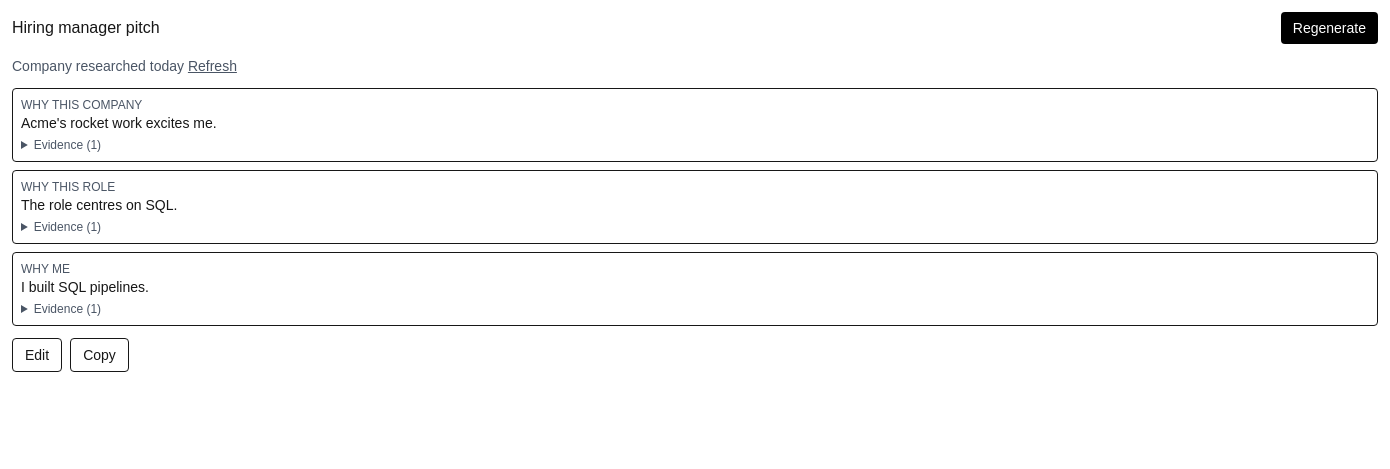
Test case: PitchPanel › disables Regenerate and Refresh while editing
Expected: the text "Acme's rocket work excites me." is shown, left=21, top=115, right=217, bottom=131
Click the button "Edit" at {"x": 37, "y": 355}, box left=12, top=338, right=62, bottom=372
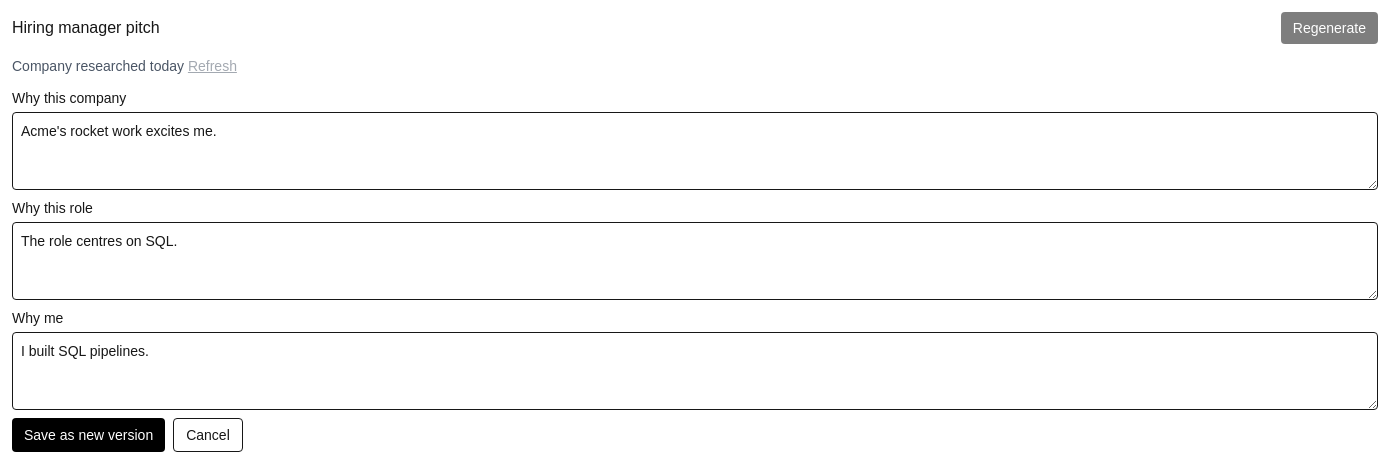
Now the button "Regenerate" is disabled, box left=1281, top=12, right=1378, bottom=44
Now the button "Refresh" is disabled, box left=188, top=56, right=237, bottom=76
